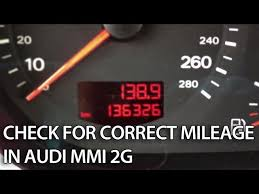Digital_Meter: (73, 81, 166, 124)
